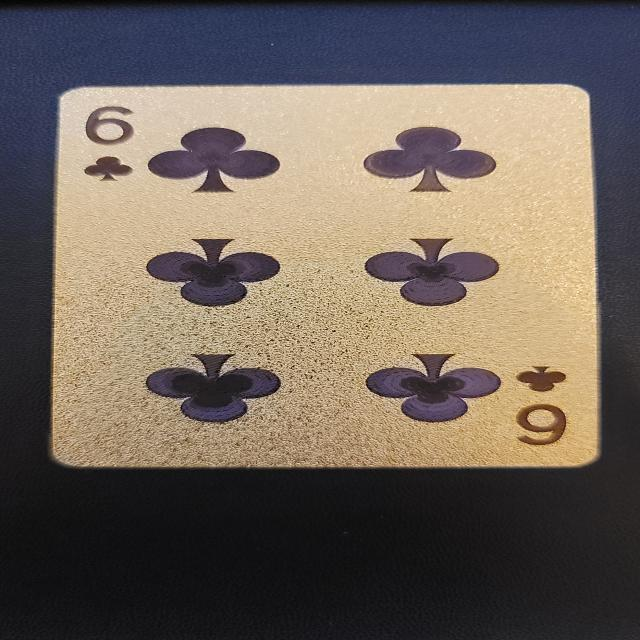6 of clubs: (48, 83, 602, 469)
